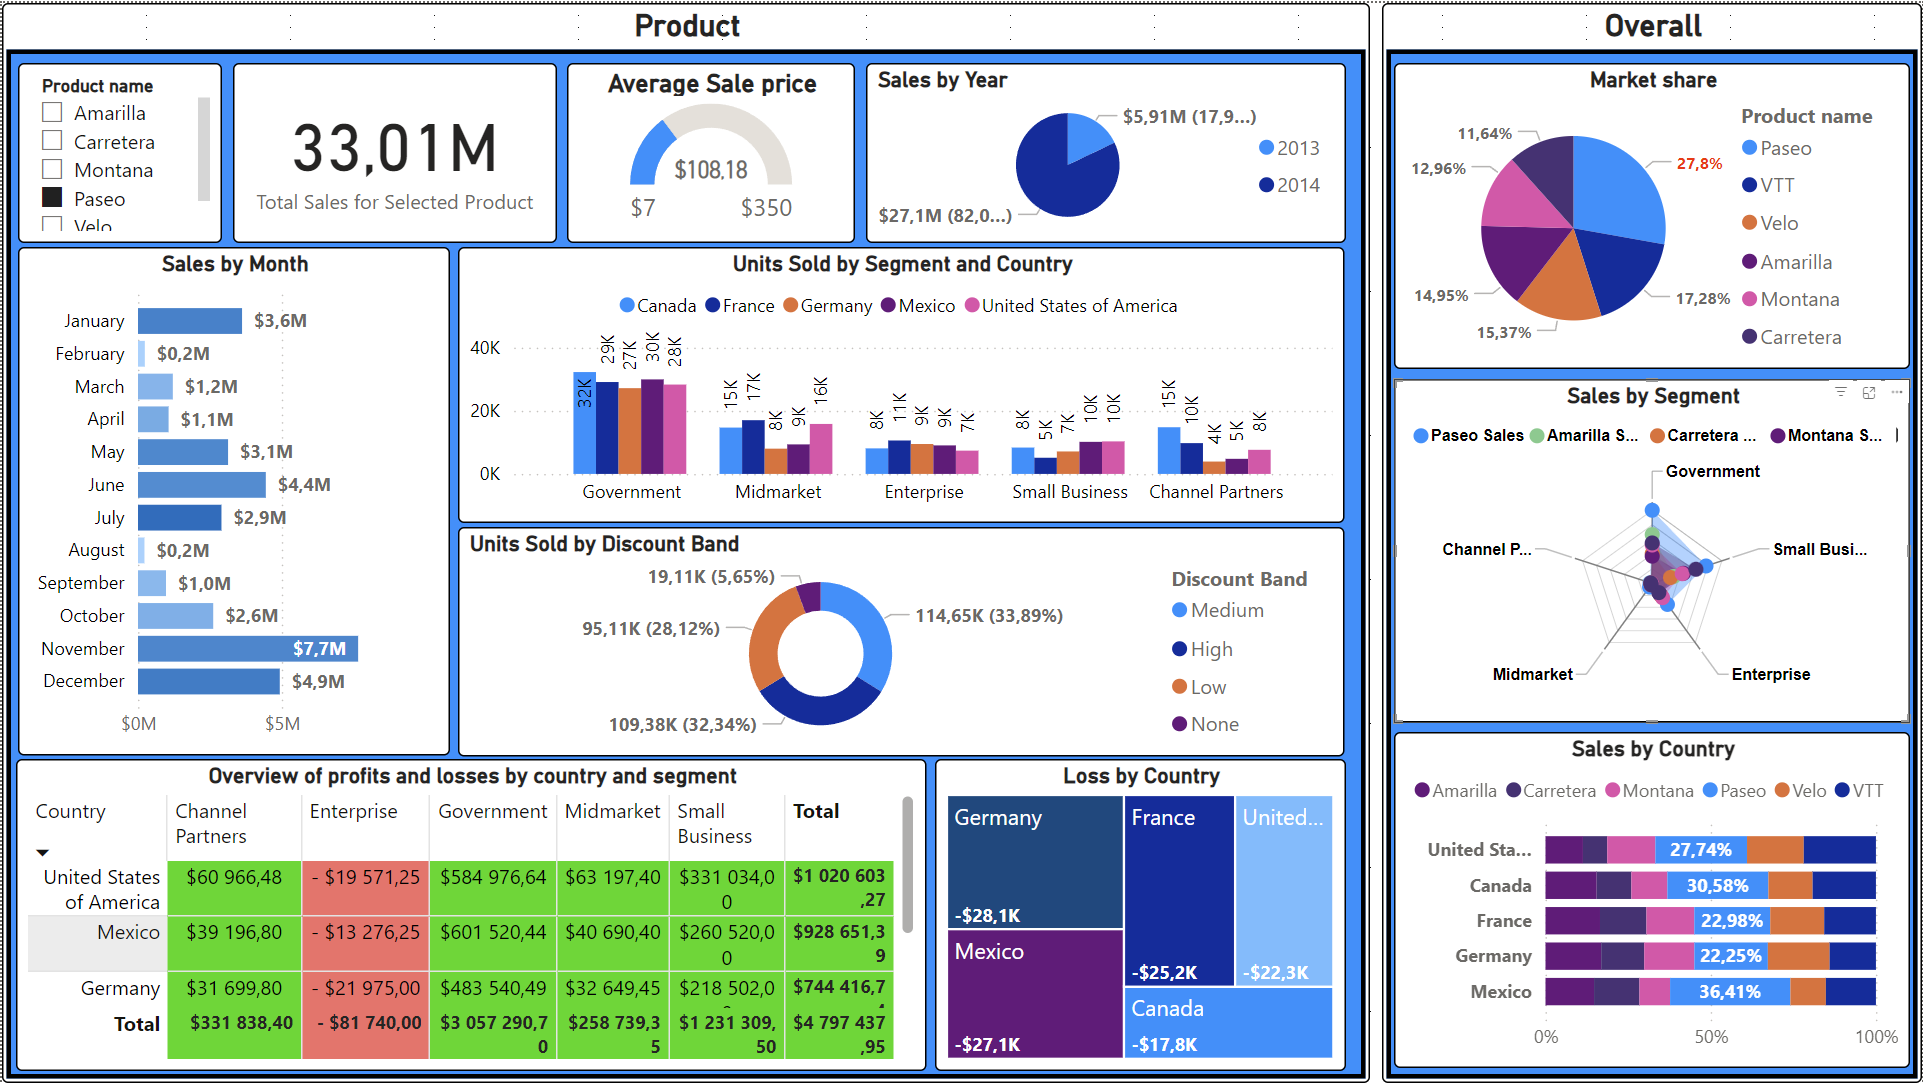

This screenshot's page, from the dashboard's own definition file:
{"tool":"powerbi","page":{"name":"Page 1","canvas":[1280,720],"ordinal":0},"visuals":[{"type":"shape","title":"Product","box":[0,0,912,720],"z":0},{"type":"treemap","fields":{"Group":["Finance.Country"],"Values":["Finance.Loss"]},"box":[622.1,504.3,273.6,207.9],"z":1000},{"type":"clusteredColumnChart","title":"Units Sold by Segment and Country","fields":{"Category":["Finance.Segment"],"Series":["Finance.Country"],"Y":["Sum(Finance.Units Sold)"]},"box":[304.3,162.9,591.4,184.3],"z":2000},{"type":"pivotTable","title":"Overview of profits and losses by country and segment","fields":{"Rows":["Finance.Country"],"Columns":["Finance.Segment"],"Values":["Sum(Finance.Profit)"]},"box":[9.3,504.3,607.1,207.9],"z":3000},{"type":"donutChart","title":"Units Sold by Discount Band","fields":{"Y":["Sum(Finance.Units Sold)"],"Category":["Finance.Discount Band"]},"box":[304.3,349.3,591.4,152.9],"z":4000},{"type":"pieChart","title":"Sales by Year","fields":{"Y":["Sum(Finance.Sales)"],"Category":["Finance.Date.Variation.Date Hierarchy.Year"]},"box":[576,40,320,120],"z":5000},{"type":"slicer","fields":{"Values":["Product.Product name"]},"box":[10.7,40,136.4,120],"z":6000},{"type":"card","fields":{"Values":["Finance.Total Profit for Selected Product"]},"box":[154.3,40,215.7,120],"z":7000},{"type":"shape","title":"Overall","box":[920,0,360,720],"z":7500},{"type":"barChart","title":"Sales by Month","fields":{"Category":["Finance.Date.Variation.Date Hierarchy.Month"],"Y":["Sum(Finance.Sales)"]},"box":[10.7,162.9,287.9,339.3],"z":8000},{"type":"gauge","title":"Average Sale price","fields":{"Y":["Avg(Finance.Sale Price)"],"MinValue":["Min(Finance.Sale Price)"],"MaxValue":["Max(Finance.Sale Price)1"]},"box":[376.4,40,192.1,120],"z":9000},{"type":"pieChart","title":"Market share","fields":{"Category":["Product.Product name"],"Y":["Sum(Finance.Sales)"]},"box":[927.9,40,344.3,204.3],"z":10000},{"type":"RadarChart1446119667547","title":"Sales by Segment","fields":{"Category":["Finance.Segment"],"Y":["Finance.Paseo Sales","Finance.Amarilla Sales","Finance.Carretera Sales","Finance.Montana Sales","Finance.Velo Sales","Finance.VTT Sales"]},"box":[927.9,250.7,344.3,229.3],"z":11000},{"type":"hundredPercentStackedBarChart","title":"Sales by Country","fields":{"Category":["Finance.Country"],"Series":["Product.Product name"],"Y":["Sum(Finance.Sales)"]},"box":[927.9,485.7,344.3,224.3],"z":12000}]}

Visuals, with their boxes in screenshot pixels (x1, y1, x2, y2), scaled from the page's 1280x720 canvas onto the 1923x1083 screenshot:
"Product" shape: locate(0, 0, 1370, 1082)
treemap - Finance.Country x Finance.Loss: locate(935, 759, 1346, 1071)
"Units Sold by Segment and Country" clusteredColumnChart: locate(457, 245, 1346, 522)
"Overview of profits and losses by country and segment" pivotTable: locate(14, 759, 926, 1071)
"Units Sold by Discount Band" donutChart: locate(457, 525, 1346, 755)
"Sales by Year" pieChart: locate(865, 60, 1346, 241)
slicer - Product.Product name: locate(16, 60, 221, 241)
card - Finance.Total Profit for Selected Product: locate(232, 60, 556, 241)
"Overall" shape: locate(1382, 0, 1922, 1082)
"Sales by Month" barChart: locate(16, 245, 449, 755)
"Average Sale price" gauge: locate(565, 60, 854, 241)
"Market share" pieChart: locate(1394, 60, 1911, 367)
"Sales by Segment" RadarChart1446119667547: locate(1394, 377, 1911, 722)
"Sales by Country" hundredPercentStackedBarChart: locate(1394, 731, 1911, 1068)
